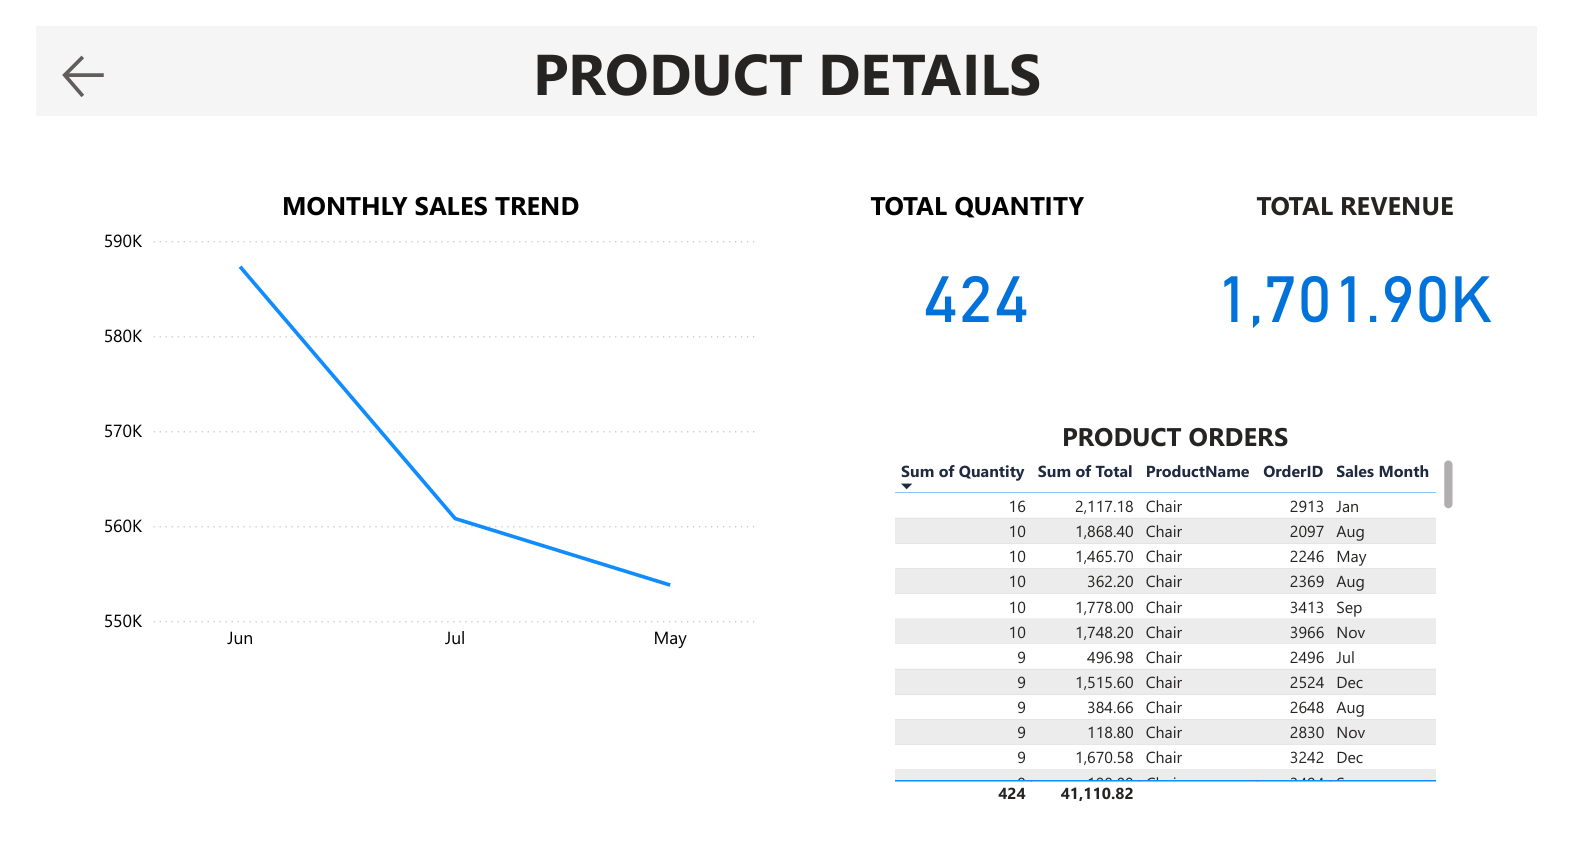

Layout of this report page (visuals, bound fields, positions):
{"tool":"powerbi","page":{"name":"Product Details","canvas":[1280,720],"ordinal":1},"visuals":[{"type":"textbox","box":[9.6,0,1252.8,75.5],"z":0},{"type":"lineChart","title":"MONTHLY SALES TREND","fields":{"Y":["Orders.Total Sales"],"Category":["Orders.Sales Month"]},"box":[54.9,129,565.4,406.2],"z":1000},{"type":"card","title":"TOTAL QUANTITY","fields":{"Values":["Sum(OrderDetails.Quantity)"]},"box":[654.5,129,277.2,153.7],"z":2000},{"type":"card","title":"TOTAL REVENUE","fields":{"Values":["Orders.Total Sales"]},"box":[970.2,129,277.2,153.7],"z":3000},{"type":"tableEx","title":"PRODUCT ORDERS","fields":{"Values":["Sum(OrderDetails.Quantity)","Sum(OrderDetails.Total)","Products.ProductName","OrderDetails.OrderID","Orders.Sales Month"]},"box":[714.9,322.5,487.1,337.6],"z":4000},{"type":"actionButton","box":[27.4,19.2,127.6,45.3],"z":5000}]}

Visuals, with their boxes on the page's 1280x720 design canvas (x1, y1, x2, y2). These are canvas units, not pixel positions in the 1587x853 screenshot, which may show the page scaled, cropped or inside an application window:
textbox: (10, 0, 1262, 76)
"MONTHLY SALES TREND" lineChart: (55, 129, 620, 535)
"TOTAL QUANTITY" card: (654, 129, 932, 283)
"TOTAL REVENUE" card: (970, 129, 1247, 283)
"PRODUCT ORDERS" tableEx: (715, 322, 1202, 660)
actionButton: (27, 19, 155, 64)
